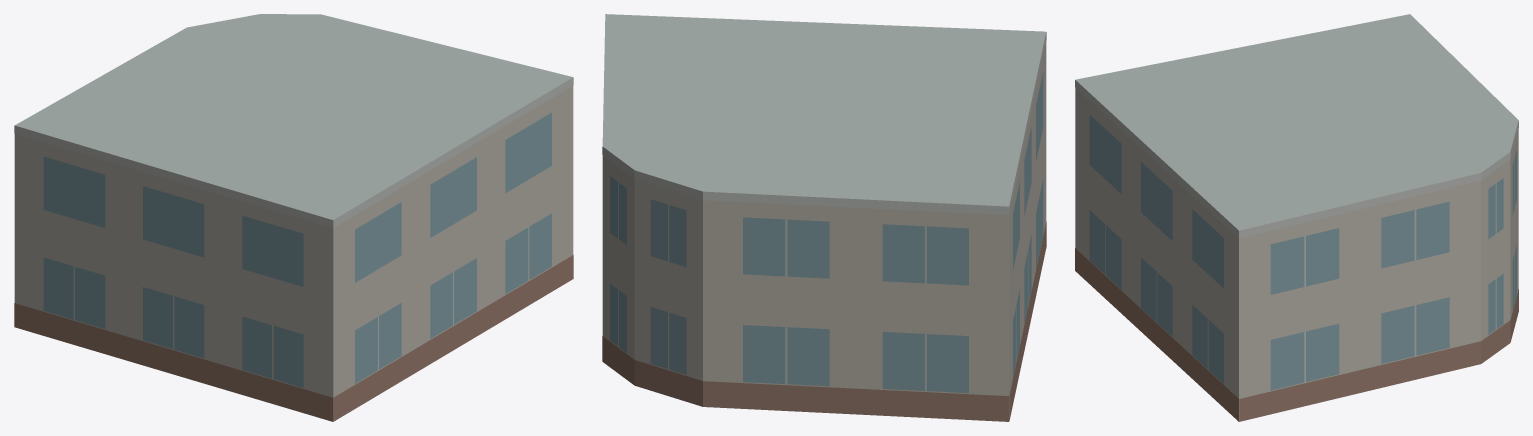
Rendered from survey-upis-32845532.glb.
3 renders of one model, left to right at view 1: azimuth 30°, elevation 25°; view 2: azimuth 150°, elevation 25°; view 3: azimuth 270°, elevation 25°, orthographic. The views are drawn at different scales.
Parts seen in each view (by area): view 1: survey-upis-32845532.tmp; view 2: survey-upis-32845532.tmp; view 3: survey-upis-32845532.tmp.
Boxes of the visible parts, bbox=[...] form: survey-upis-32845532.tmp: bbox=[14, 14, 573, 421]; survey-upis-32845532.tmp: bbox=[602, 14, 1046, 421]; survey-upis-32845532.tmp: bbox=[1075, 14, 1518, 421].
Size of the model in its own units: 14.84 by 6.1 by 12.84.
